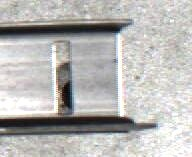40ngpress: (15, 19, 145, 131)
